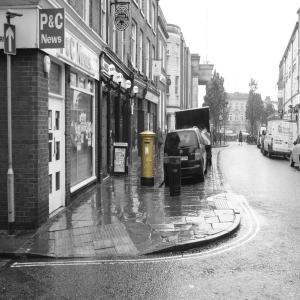Vehicle-registration-plate: (181, 158, 189, 162)
